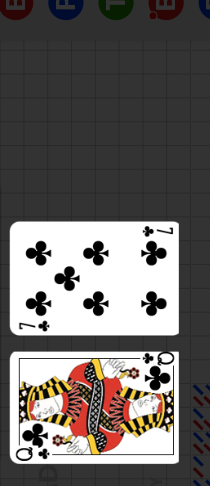7C: (140, 224, 175, 239), (17, 318, 52, 332)
QC: (132, 353, 179, 397), (12, 420, 58, 464)
